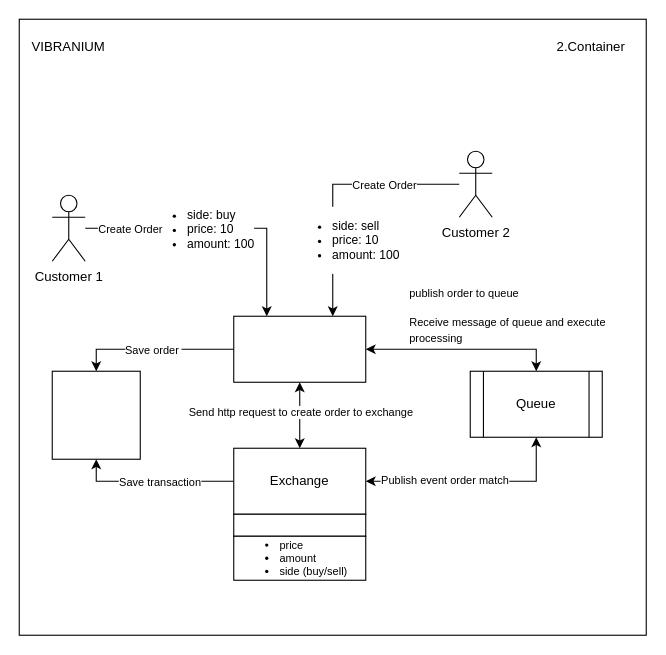
This 666x655 diagram has some shape labels left out. Each missing label, with the box of its shape:
Broker: (233, 315, 366, 382)
Database: (51, 370, 140, 459)
Order book: (233, 513, 366, 536)
